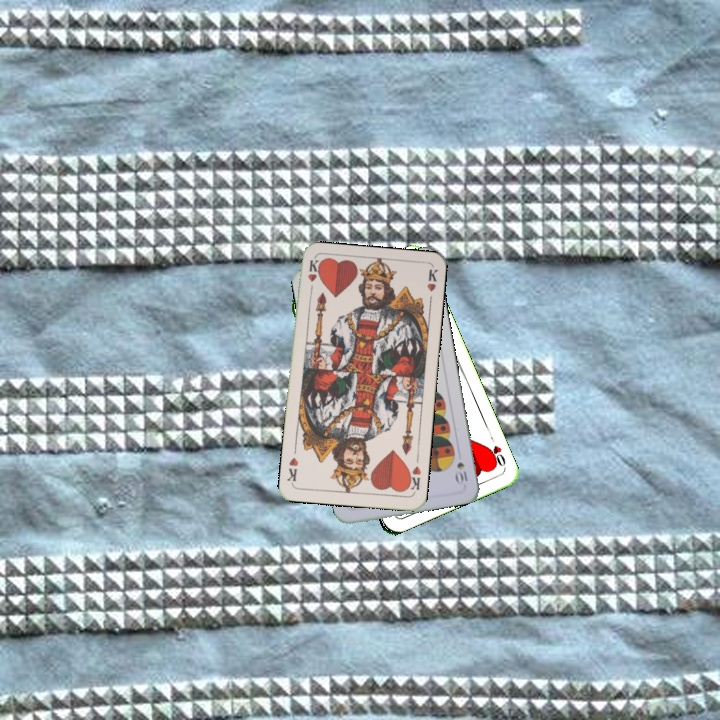HK: (304, 256, 321, 297), (403, 462, 424, 495)
HO: (483, 432, 508, 470)
S10: (452, 458, 470, 487)
